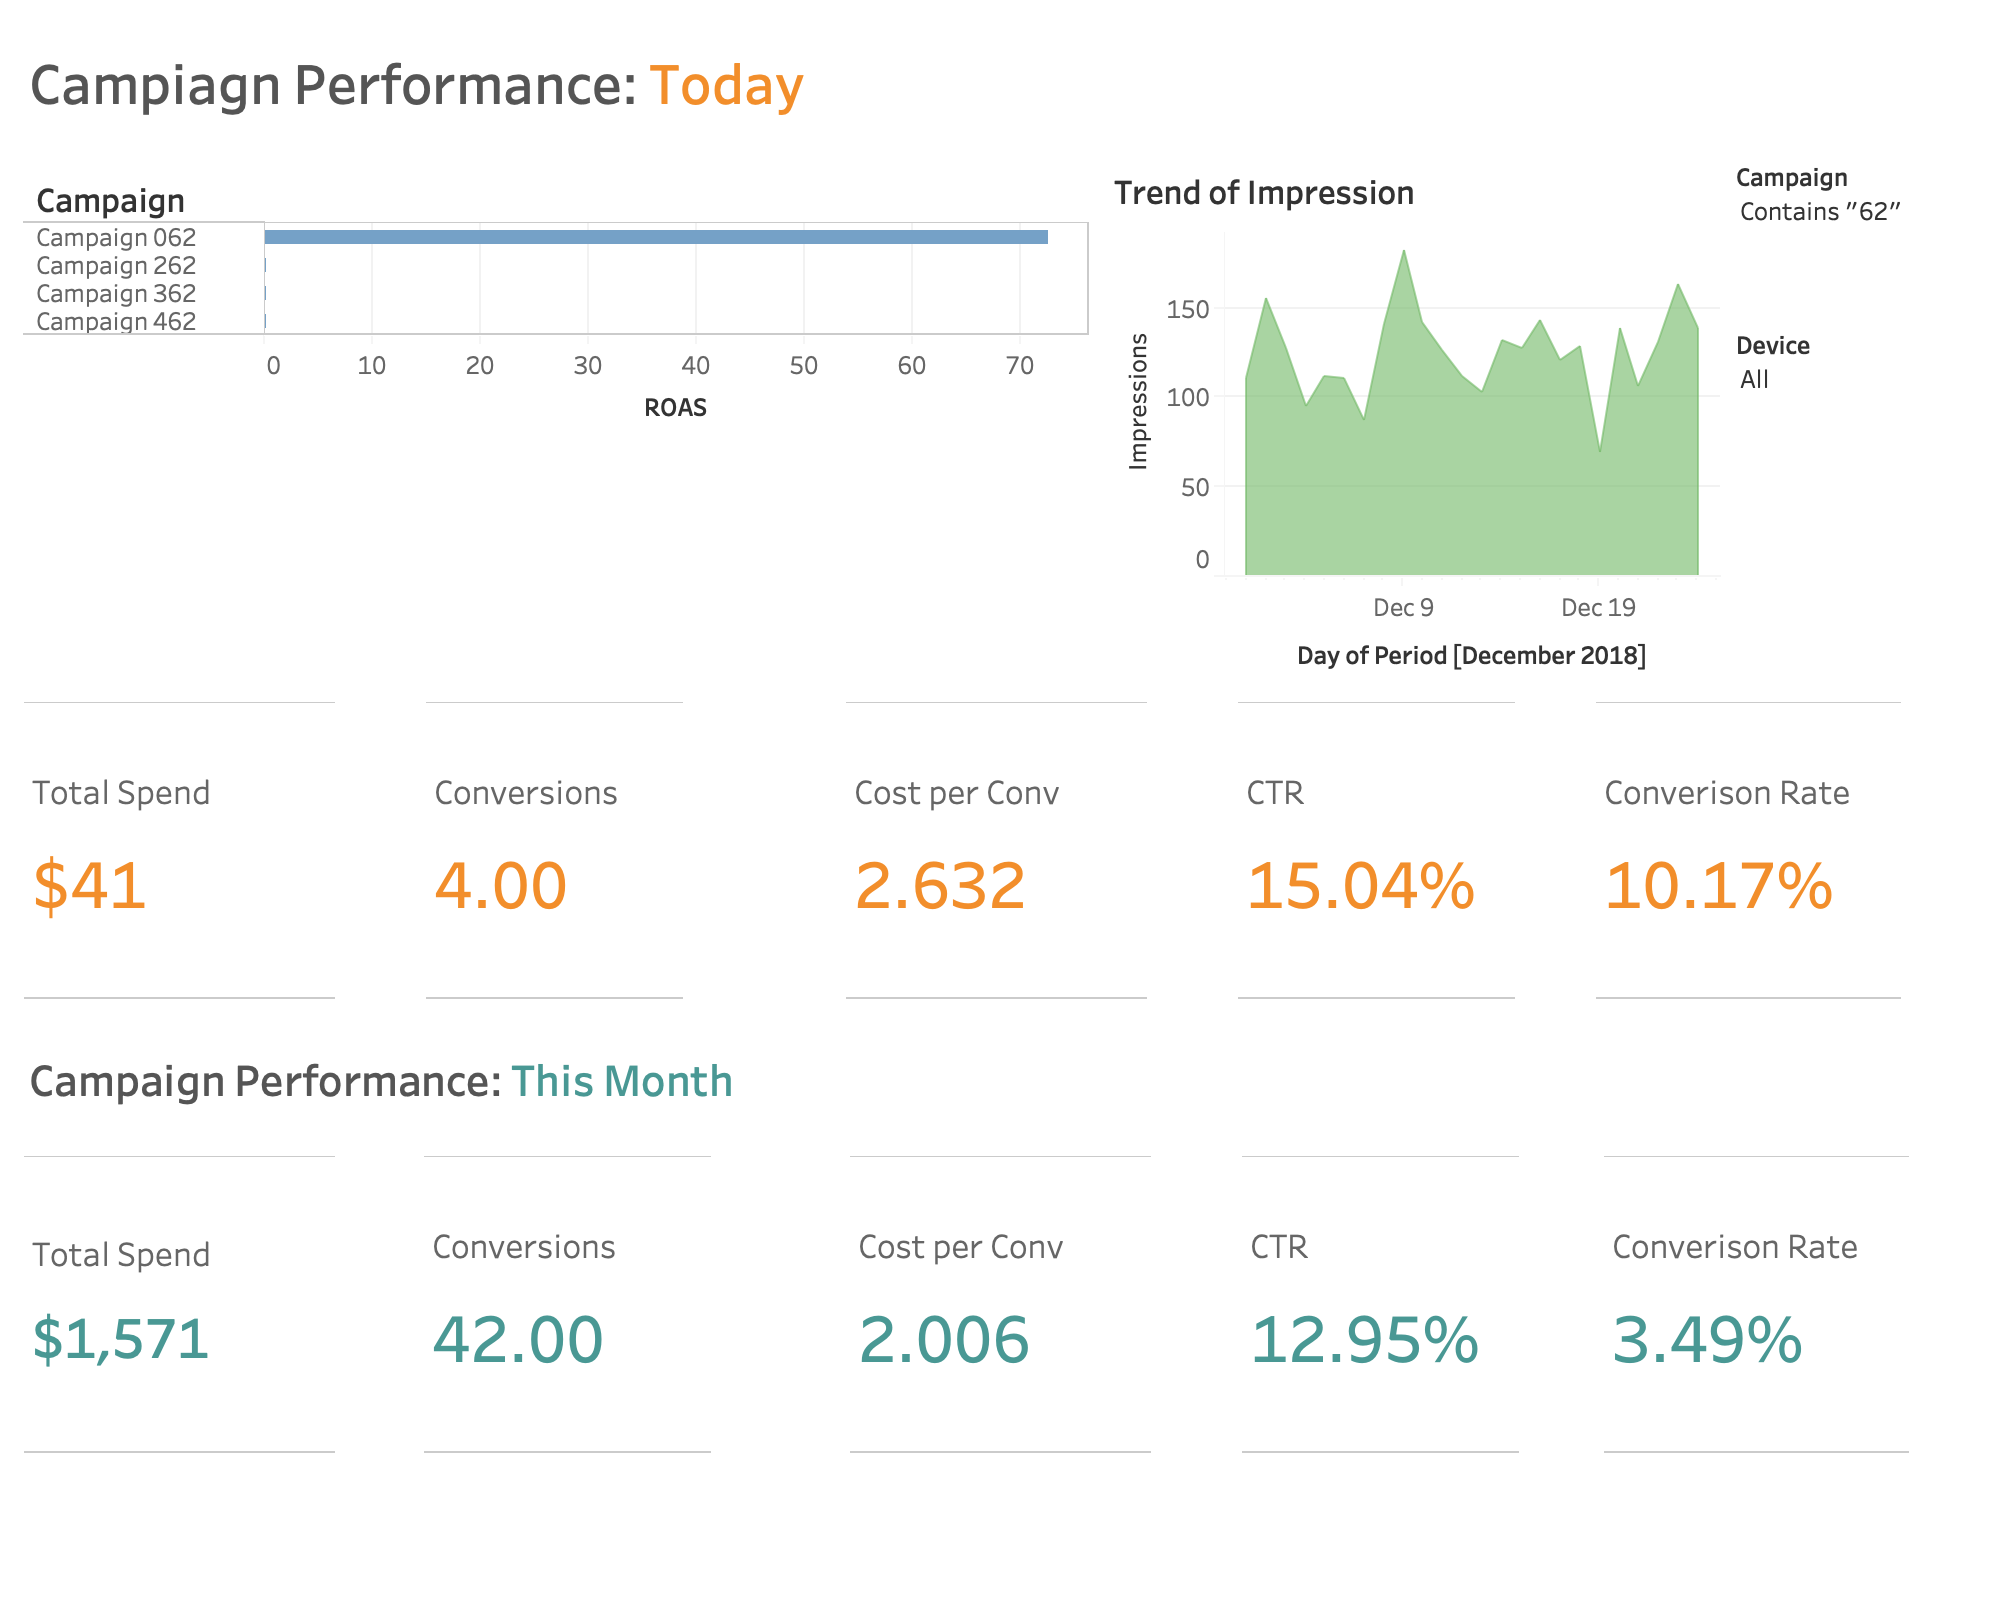

The page's visual inventory and layout, read from the dashboard file:
{"tool":"tableau","page":{"name":"Dashboard_Campaign_Performance","canvas":[1000,800],"ordinal":0},"visuals":[{"type":"text","box":[8,8,984,67]},{"type":"worksheet","title":"Campaign_ROAS_Today","mark":"Bar","rows":["Day","Campaign"],"cols":["ROI"],"box":[8,75,541,272]},{"type":"worksheet","title":"Trend of Impression","mark":"Area","rows":["Impressions"],"cols":["Day"],"box":[549,75,315,272]},{"type":"filter","title":"Spending_Today","param":"[federated.1x7wusw17rf5a6163vt2t01ocihh].[none:Campaign:nk]","box":[864,75,128,84]},{"type":"filter","title":"CPC_Today","param":"[federated.1x7wusw17rf5a6163vt2t01ocihh].[none:Device:nk]","box":[864,159,128,188]},{"type":"worksheet","title":"Spending_Today","mark":"Text","cols":["Day"],"box":[8,347,200.6,158]},{"type":"worksheet","title":"Conversions_Today","mark":"Text","cols":["Day"],"box":[208.6,347,210.2,158]},{"type":"worksheet","title":"CPC_Today","mark":"Text","cols":["Day"],"box":[418.8,347,195.8,158]},{"type":"worksheet","title":"CTR_Today","mark":"Text","cols":["Day"],"box":[614.6,347,179.1,158]},{"type":"worksheet","title":"CR_Today ","mark":"Text","cols":["Day"],"box":[793.8,347,198.2,158]},{"type":"text","box":[8,505,984,69]},{"type":"worksheet","title":"Spending_12","mark":"Text","cols":["Day"],"box":[8,574,200,218]},{"type":"worksheet","title":"Conversions_12","mark":"Text","cols":["Day"],"box":[208,574,213,218]},{"type":"worksheet","title":"CPC_12","mark":"Text","cols":["Day"],"box":[421,574,196,218]},{"type":"worksheet","title":"CTR_12","mark":"Text","cols":["Day"],"box":[617,574,181,218]},{"type":"worksheet","title":"CR_12","mark":"Text","cols":["Day"],"box":[798,574,194,218]}]}

Visuals, with their boxes in screenshot pixels (x1, y1, x2, y2), scaled from the page's 1000x800 canvas onto the 2000x1600 screenshot:
text: select_region(16, 16, 1984, 150)
"Campaign_ROAS_Today" worksheet (Bar marks): select_region(16, 150, 1098, 694)
"Trend of Impression" worksheet (Area marks): select_region(1098, 150, 1728, 694)
"Spending_Today" filter: select_region(1728, 150, 1984, 318)
"CPC_Today" filter: select_region(1728, 318, 1984, 694)
"Spending_Today" worksheet (Text marks): select_region(16, 694, 417, 1010)
"Conversions_Today" worksheet (Text marks): select_region(417, 694, 838, 1010)
"CPC_Today" worksheet (Text marks): select_region(838, 694, 1229, 1010)
"CTR_Today" worksheet (Text marks): select_region(1229, 694, 1587, 1010)
"CR_Today " worksheet (Text marks): select_region(1588, 694, 1984, 1010)
text: select_region(16, 1010, 1984, 1148)
"Spending_12" worksheet (Text marks): select_region(16, 1148, 416, 1584)
"Conversions_12" worksheet (Text marks): select_region(416, 1148, 842, 1584)
"CPC_12" worksheet (Text marks): select_region(842, 1148, 1234, 1584)
"CTR_12" worksheet (Text marks): select_region(1234, 1148, 1596, 1584)
"CR_12" worksheet (Text marks): select_region(1596, 1148, 1984, 1584)
